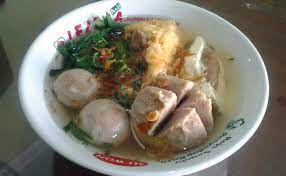bakso: (51, 29, 241, 156)
